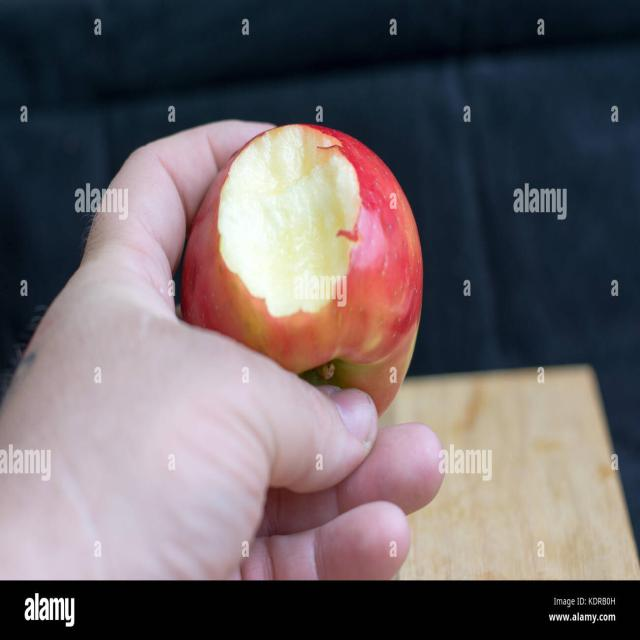apple_fruit: (166, 102, 438, 421)
